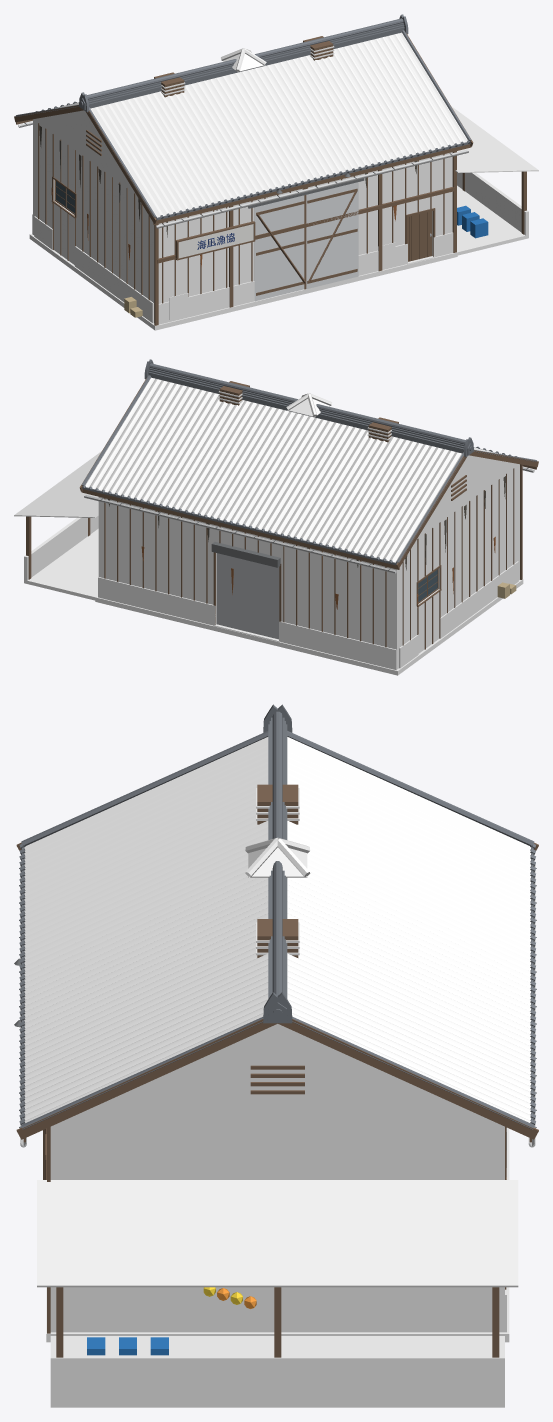
File: warehouse_wood.glb
3 views of the same model, one above another, from view 1: azimuth 30°, elevation 25°; view 2: azimuth 150°, elevation 25°; view 3: azimuth 270°, elevation 25° (orthographic). The views are drawn at different scales.
Parts seen in each view (by area): view 1: warehouse_wood_body; view 2: warehouse_wood_body; view 3: warehouse_wood_body.
Boxes of the visible parts, x1,y1,x2,y2 form: warehouse_wood_body: (14, 14, 538, 330); warehouse_wood_body: (14, 359, 538, 675); warehouse_wood_body: (14, 704, 538, 1407).
Size of what is drawn, in the model's own units: 18.43 by 8.93 by 11.56.
